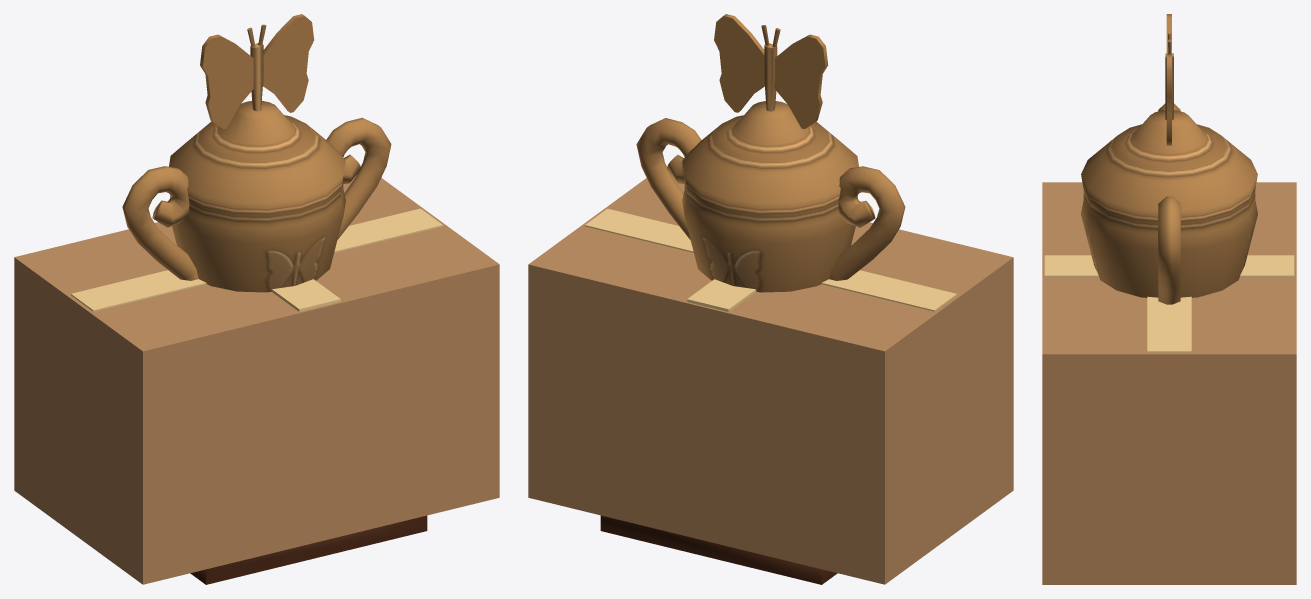
The model's file is BronzeBugTrophyHand.fbx.
3 views of the same model, side by side, from view 1: azimuth 30°, elevation 25°; view 2: azimuth 150°, elevation 25°; view 3: azimuth 270°, elevation 25° (orthographic).
Visible parts, largest first — view 1: MovingBox, MovingBox (1), Cube (1), Cube (2); view 2: MovingBox, MovingBox (1), Cube (1), Cube (2); view 3: MovingBox, MovingBox (1), Cube (2), Cube (1).
Part boxes in pixels (box(x1,y1,x2,y2)): MovingBox: box(14, 175, 499, 584); MovingBox (1): box(122, 14, 427, 584); Cube (1): box(71, 208, 442, 311); Cube (2): box(271, 279, 340, 311); MovingBox: box(528, 175, 1013, 584); MovingBox (1): box(600, 14, 905, 584); Cube (1): box(585, 208, 956, 311); Cube (2): box(687, 279, 756, 311); MovingBox: box(1042, 182, 1296, 584); MovingBox (1): box(1081, 14, 1257, 304); Cube (2): box(1044, 255, 1294, 278); Cube (1): box(1147, 296, 1191, 352).
Bounding box in the file's own units: 0.8 × 1.05 × 0.5.
3 materials, 1 textured.
